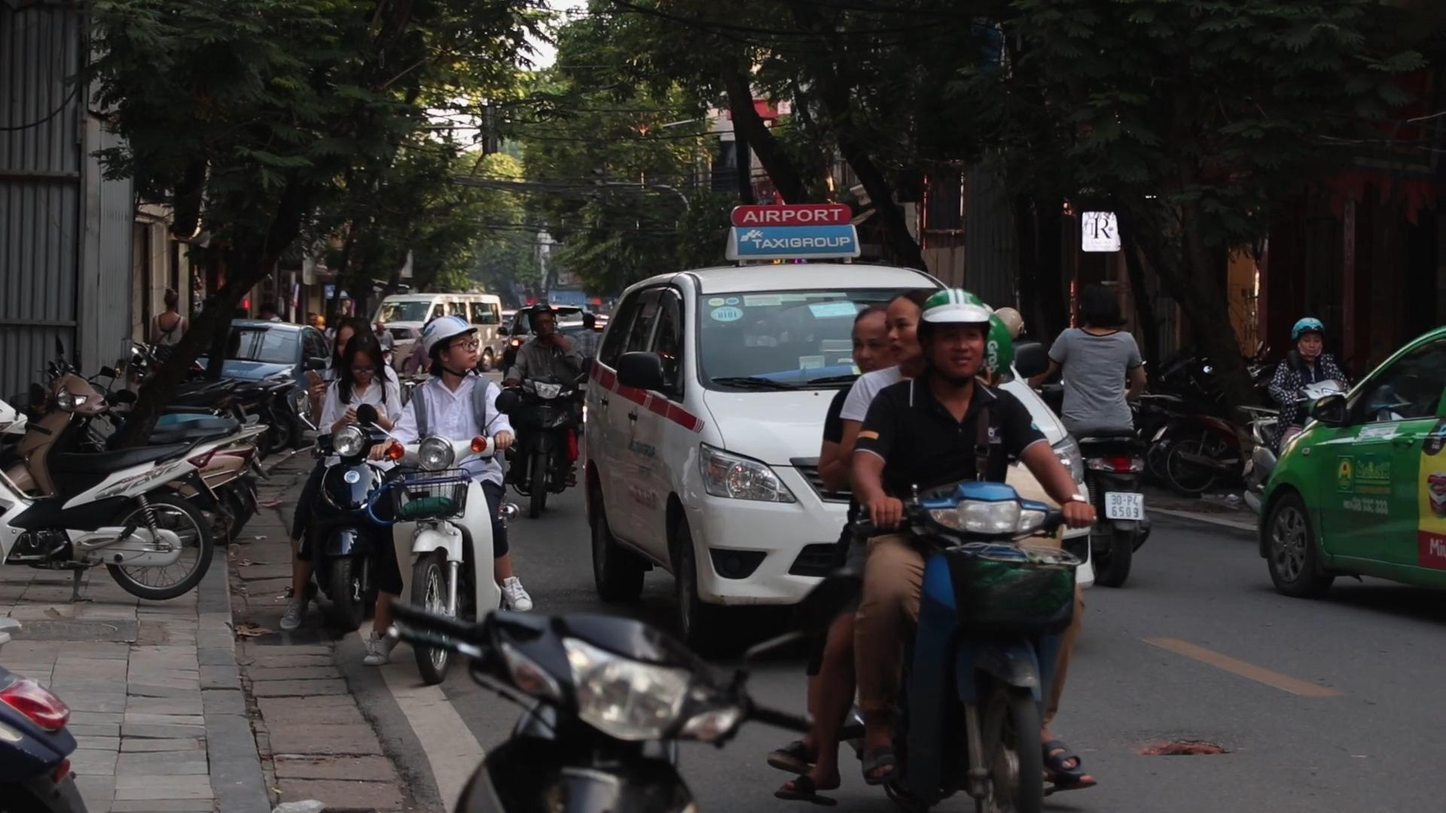driver: (767, 289, 1098, 813), (363, 314, 534, 684), (278, 315, 403, 632), (1027, 283, 1153, 589), (1240, 318, 1352, 518), (501, 303, 588, 517)
helmet: (917, 288, 992, 384), (424, 314, 480, 377), (1291, 318, 1325, 360), (527, 303, 558, 338)
no-helmet: (886, 289, 923, 362), (852, 303, 889, 375), (343, 331, 383, 384), (1077, 283, 1121, 328), (334, 315, 372, 362)
